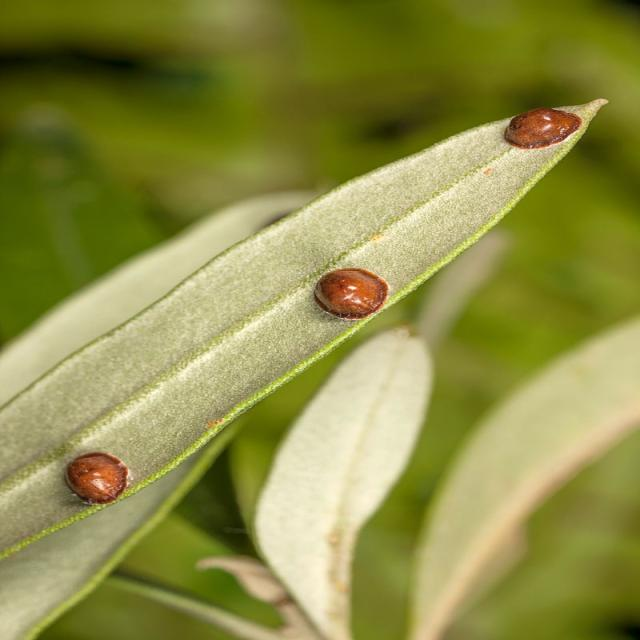Black Scale: (313, 268, 391, 323), (64, 451, 136, 506), (502, 106, 582, 150)
